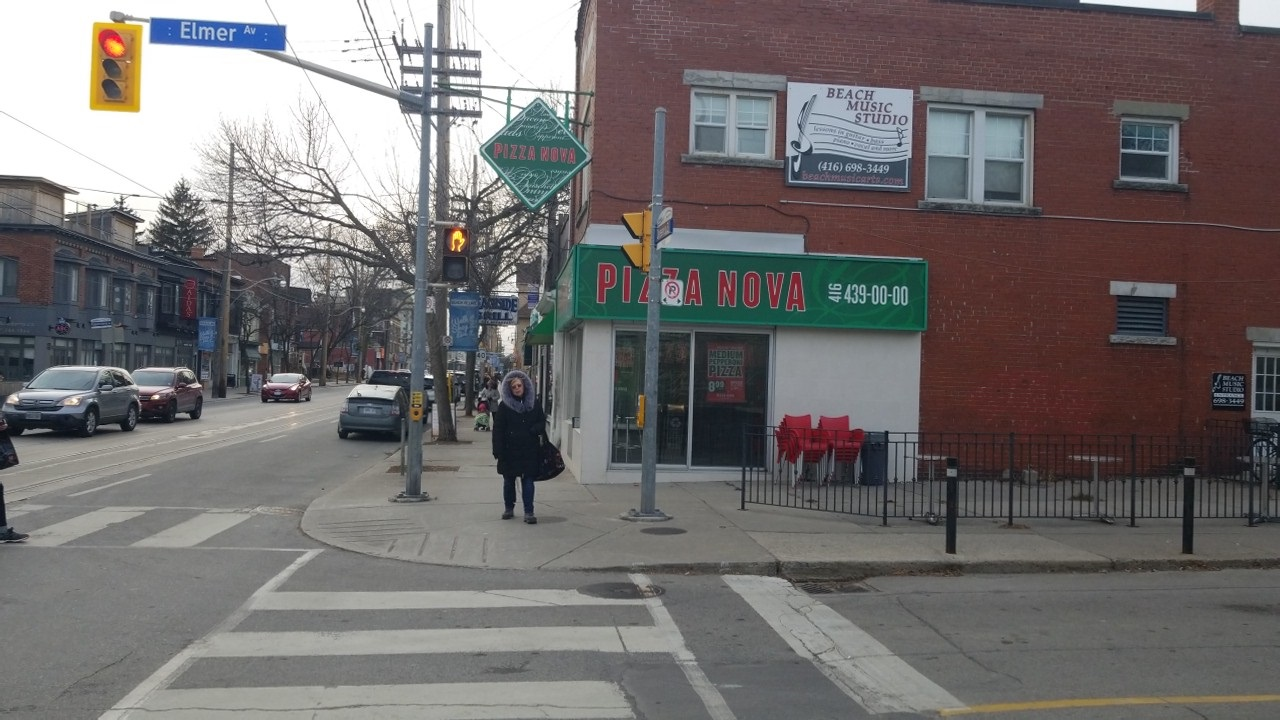light: (441, 224, 471, 285)
